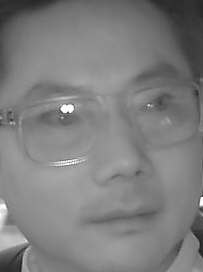glass: (11, 93, 113, 167), (124, 82, 203, 148)
mouth: (85, 200, 158, 235)
